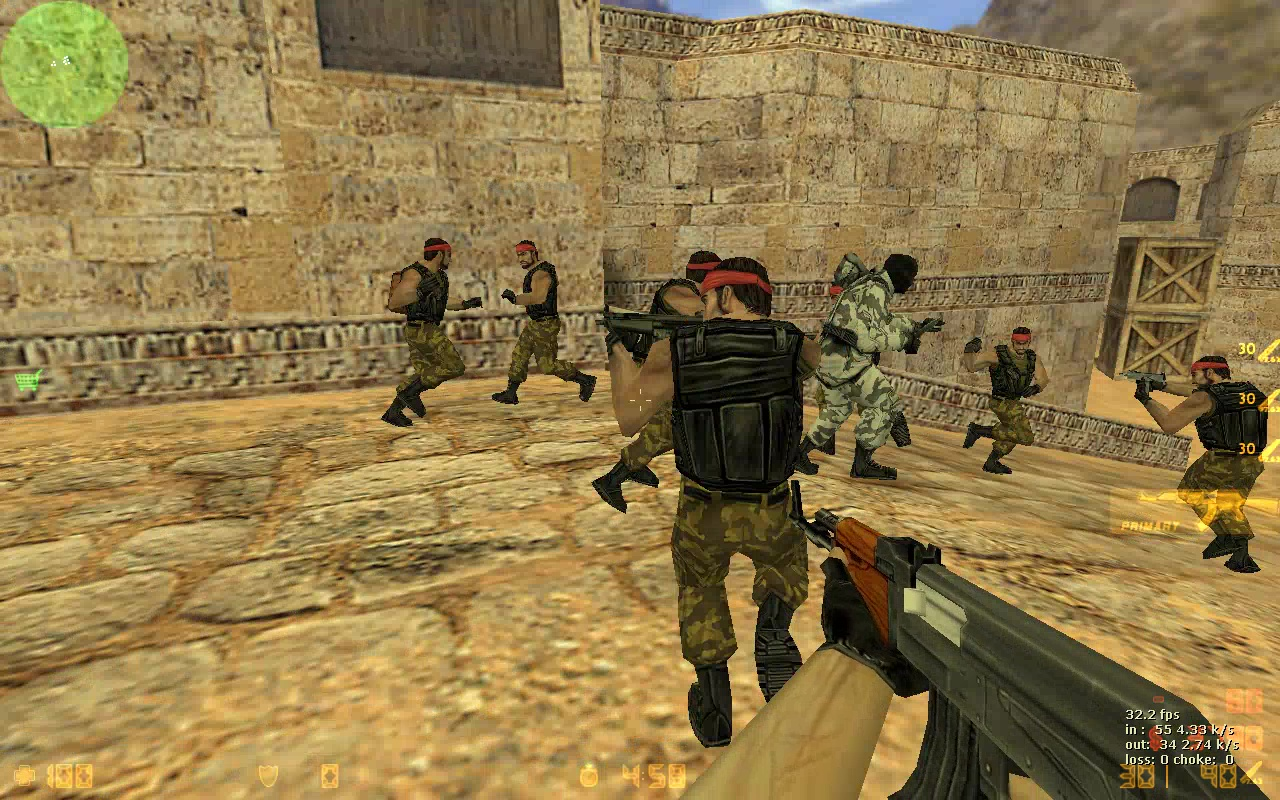terr1: (601, 257, 823, 744), (595, 251, 734, 503), (1125, 355, 1277, 584), (367, 236, 485, 426), (492, 240, 600, 404), (954, 325, 1051, 476)
terr2: (786, 251, 948, 472)
